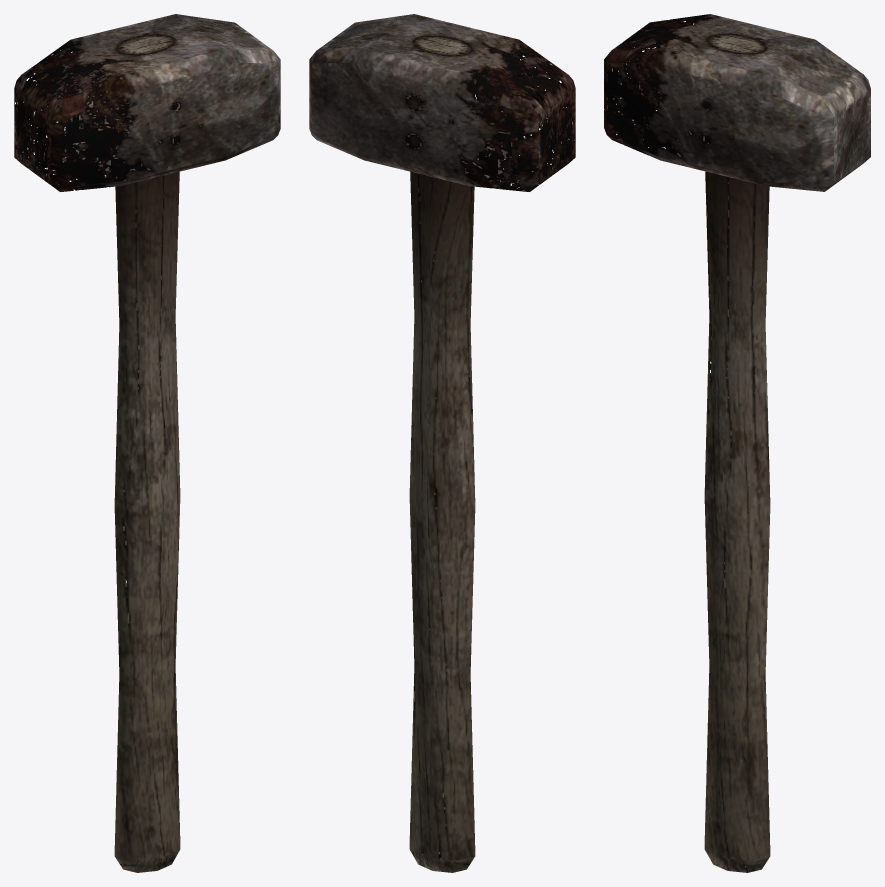
Rendered from sledge.dae.
3 renders of one model, left to right at view 1: azimuth 30°, elevation 25°; view 2: azimuth 150°, elevation 25°; view 3: azimuth 330°, elevation 25°, orthographic.
Visible parts, largest first — view 1: polySurface1; view 2: polySurface1; view 3: polySurface1.
Part boxes in pixels (<box>): polySurface1: <box>14,14,280,872</box>; polySurface1: <box>309,14,575,872</box>; polySurface1: <box>604,14,870,872</box>.
Bounding box in the file's own units: 0.546 × 0.2447 × 1.88.
